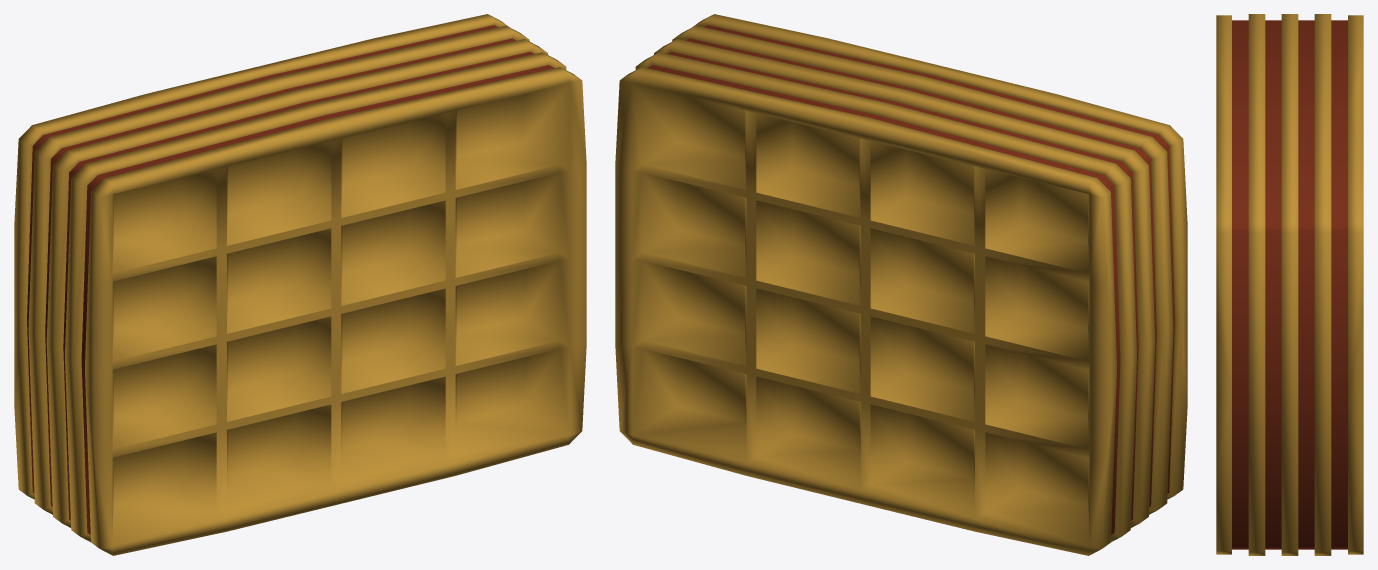
The model's file is Waffle.fbx.
3 views of the same model, side by side, from view 1: azimuth 30°, elevation 25°; view 2: azimuth 150°, elevation 25°; view 3: azimuth 270°, elevation 25° (orthographic). The views are drawn at different scales.
Parts seen in each view (by area): view 1: Cube; view 2: Cube; view 3: Cube.
Part boxes in pixels (bbox=[...]): Cube: bbox=[14, 14, 586, 555]; Cube: bbox=[615, 14, 1187, 555]; Cube: bbox=[1216, 14, 1363, 555].
Size of the model in its own units: 444 by 327 by 125.
